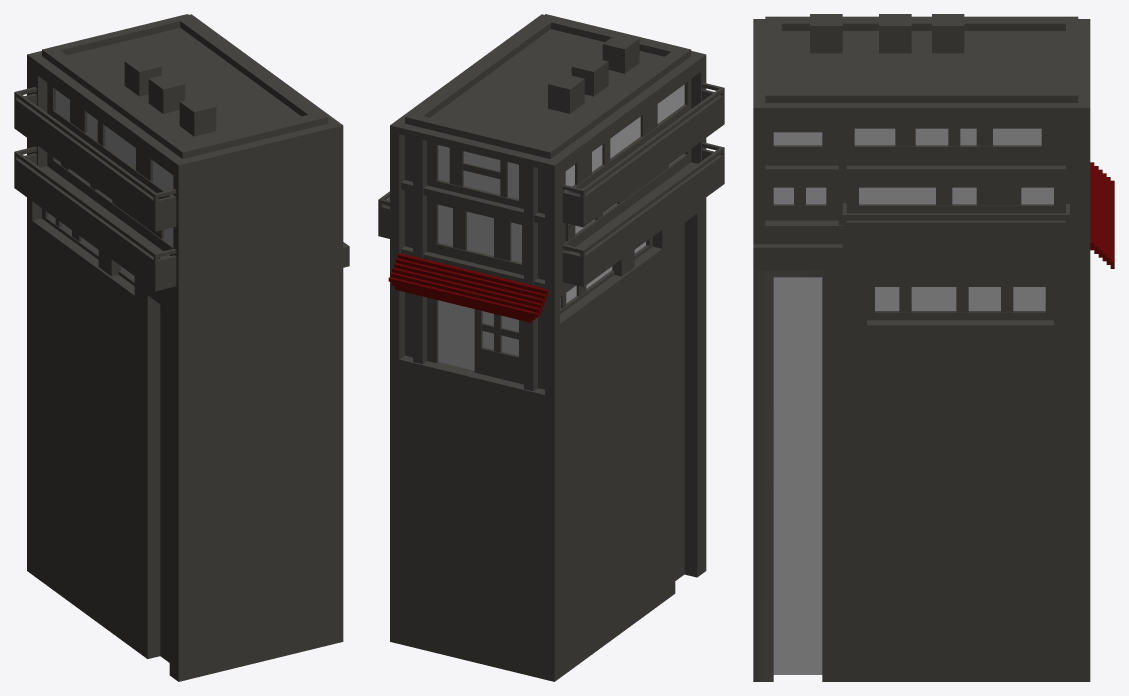
Rendered from Building_Mesh_008.fbx.
3 renders of one model, left to right at view 1: azimuth 30°, elevation 25°; view 2: azimuth 150°, elevation 25°; view 3: azimuth 270°, elevation 25°, orthographic. The views are drawn at different scales.
Visible parts, largest first — view 1: Building_008; view 2: Building_008; view 3: Building_008.
Boxes of the visible parts, x1,y1,x2,y2 form: Building_008: [14, 14, 349, 681]; Building_008: [378, 14, 724, 681]; Building_008: [753, 14, 1114, 681].
Bounding box in the file's own units: 6.51 × 16.33 × 8.9.
